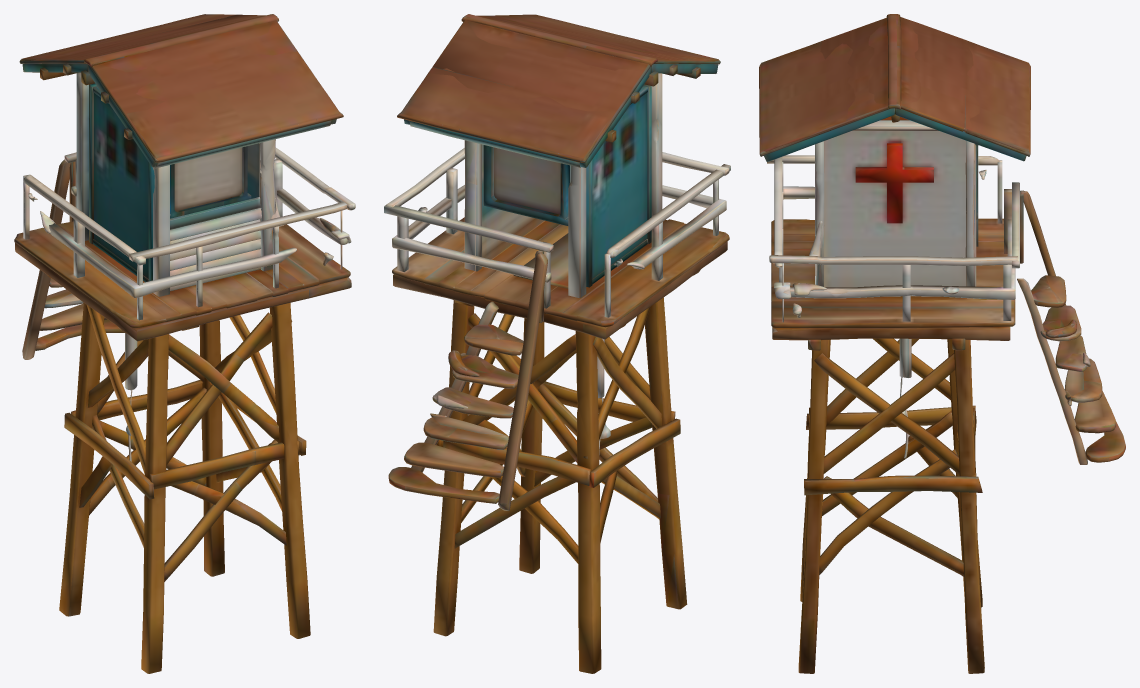
Rendered from lifeguard-tower.glb.
3 renders of one model, left to right at view 1: azimuth 30°, elevation 25°; view 2: azimuth 150°, elevation 25°; view 3: azimuth 270°, elevation 25°, orthographic.
Parts seen in each view (by area): view 1: tripo_node_f0201927-d97f-4a18-ae4f-d7e66916d27d; view 2: tripo_node_f0201927-d97f-4a18-ae4f-d7e66916d27d; view 3: tripo_node_f0201927-d97f-4a18-ae4f-d7e66916d27d.
Boxes of the visible parts, left/top/right/bottom form: tripo_node_f0201927-d97f-4a18-ae4f-d7e66916d27d: left=14, top=14, right=355, bottom=673; tripo_node_f0201927-d97f-4a18-ae4f-d7e66916d27d: left=384, top=14, right=730, bottom=673; tripo_node_f0201927-d97f-4a18-ae4f-d7e66916d27d: left=759, top=14, right=1125, bottom=673.
Bounding box in the file's own units: 1.81 × 4.5 × 2.58.
Materials: 1 (1 with a texture image).
